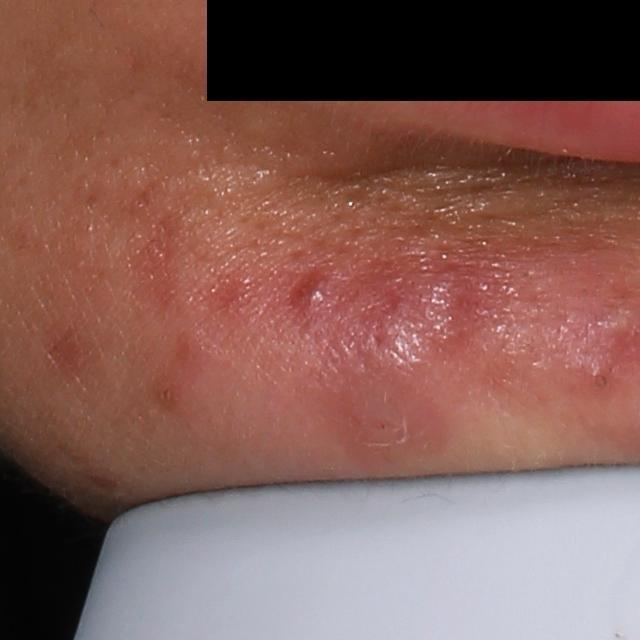nodule: (350, 259, 479, 389)
papule: (281, 271, 354, 319)
